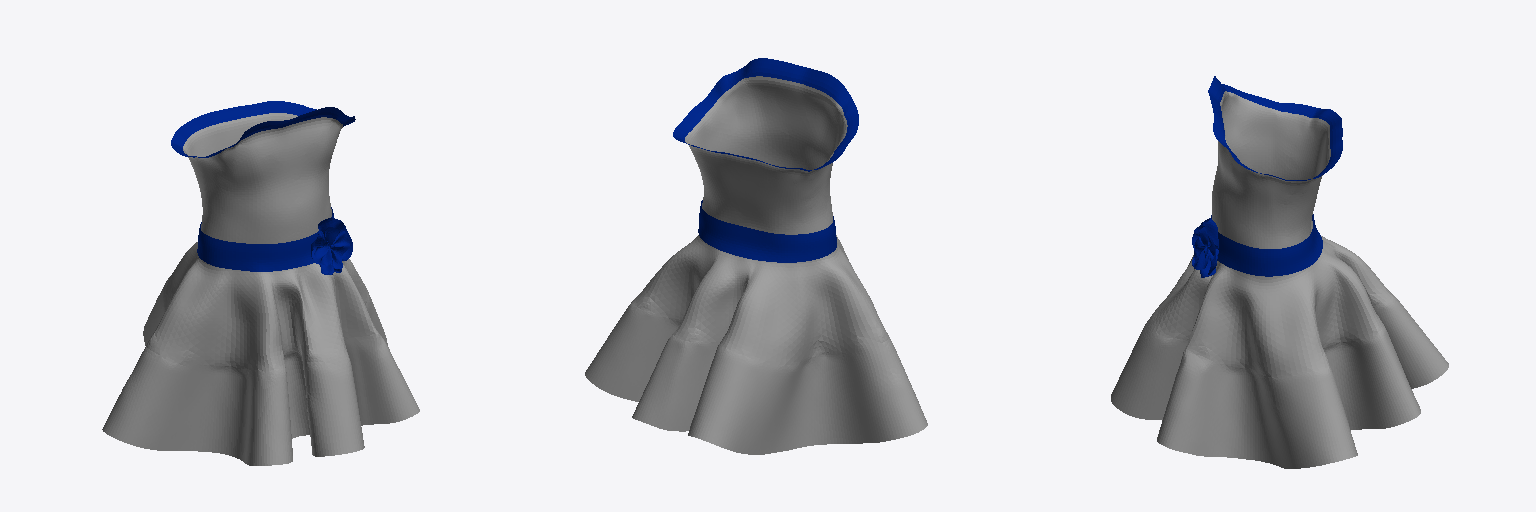
File: dress_blue.obj
3 views of the same model, side by side, from view 1: azimuth 30°, elevation 25°; view 2: azimuth 150°, elevation 25°; view 3: azimuth 270°, elevation 25° (orthographic).
Visible parts, largest first — view 1: Shape.001; view 2: Shape.001; view 3: Shape.001.
Part boxes in pixels (bbox=[...]): Shape.001: bbox=[102, 101, 419, 465]; Shape.001: bbox=[585, 58, 927, 454]; Shape.001: bbox=[1111, 76, 1448, 468].
Size of the model in its own units: 0.524 by 0.5374 by 0.5012.